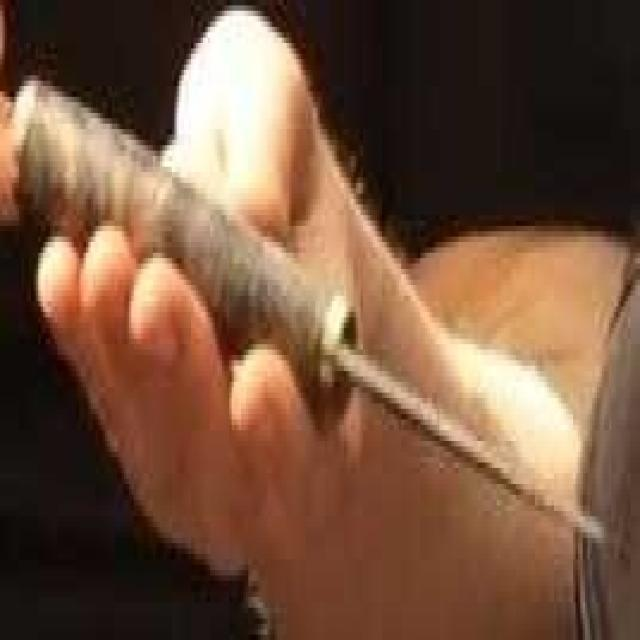knife: (25, 56, 618, 576)
